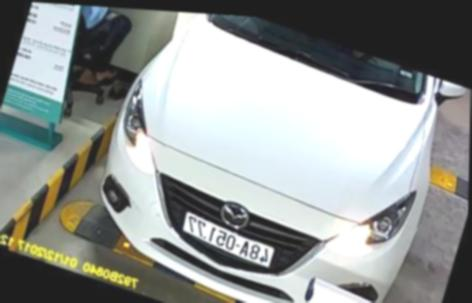License_Plate: (177, 212, 277, 272)
